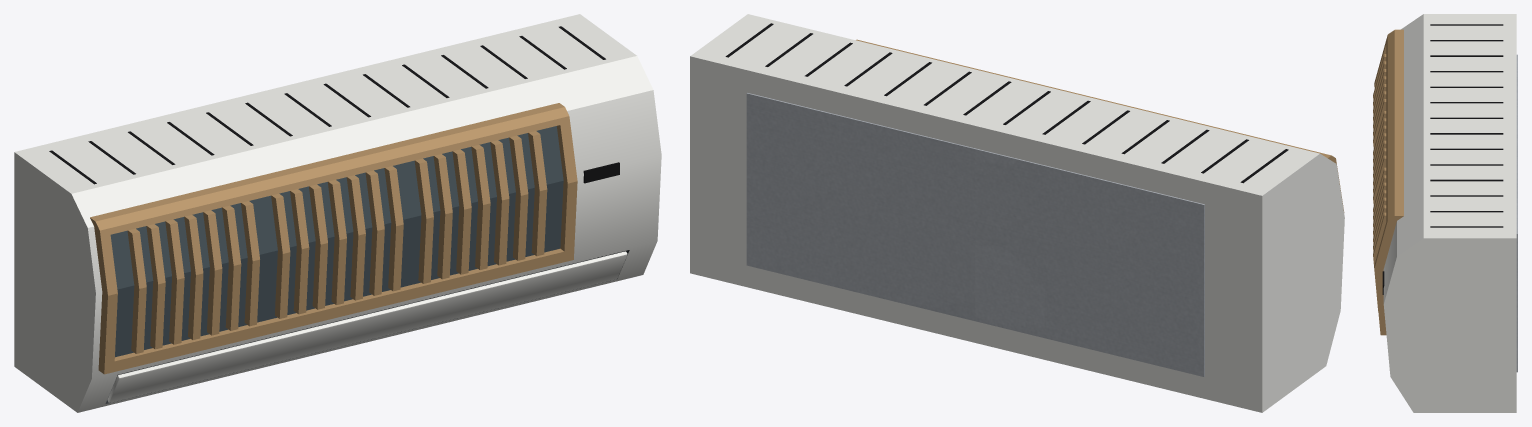
The picture shows the model from 3 angles, left to right: view 1: azimuth 30°, elevation 25°; view 2: azimuth 150°, elevation 25°; view 3: azimuth 270°, elevation 25°; orthographic projection. The views are drawn at different scales.
Visible parts, largest first — view 1: wall-ac-body, wall-ac-ribbed-fascia, wall-ac-fascia-frame, wall-ac-louver, wall-ac-vertical-rib-bank-3, wall-ac-vertical-rib-bank-1, wall-ac-vertical-rib-bank-2, wall-ac-intake; view 2: wall-ac-body, wall-ac-mount, wall-ac-intake, wall-ac-fascia-frame; view 3: wall-ac-body, wall-ac-fascia-frame, wall-ac-intake, wall-ac-vertical-rib-bank-3, wall-ac-vertical-rib-bank-1, wall-ac-vertical-rib-bank-2, wall-ac-mount.
Boxes of the visible parts, x1,y1,x2,y2 form: wall-ac-body: [14, 14, 661, 412]; wall-ac-ribbed-fascia: [110, 126, 563, 357]; wall-ac-fascia-frame: [90, 103, 577, 374]; wall-ac-louver: [107, 251, 627, 402]; wall-ac-vertical-rib-bank-3: [414, 131, 547, 283]; wall-ac-vertical-rib-bank-1: [127, 201, 259, 353]; wall-ac-vertical-rib-bank-2: [271, 166, 403, 318]; wall-ac-intake: [49, 26, 605, 184]; wall-ac-body: [690, 14, 1344, 412]; wall-ac-mount: [746, 93, 1204, 376]; wall-ac-intake: [725, 23, 1288, 183]; wall-ac-fascia-frame: [856, 39, 1344, 212]; wall-ac-body: [1383, 14, 1516, 412]; wall-ac-fascia-frame: [1374, 29, 1403, 335]; wall-ac-intake: [1430, 24, 1503, 227]; wall-ac-vertical-rib-bank-3: [1373, 167, 1386, 310]; wall-ac-vertical-rib-bank-1: [1373, 54, 1386, 148]; wall-ac-vertical-rib-bank-2: [1373, 111, 1386, 205]; wall-ac-mount: [1516, 54, 1517, 372].
Bounding box in the file's own units: 0.8 × 0.2905 × 0.218.
8 materials, 4 textured.
